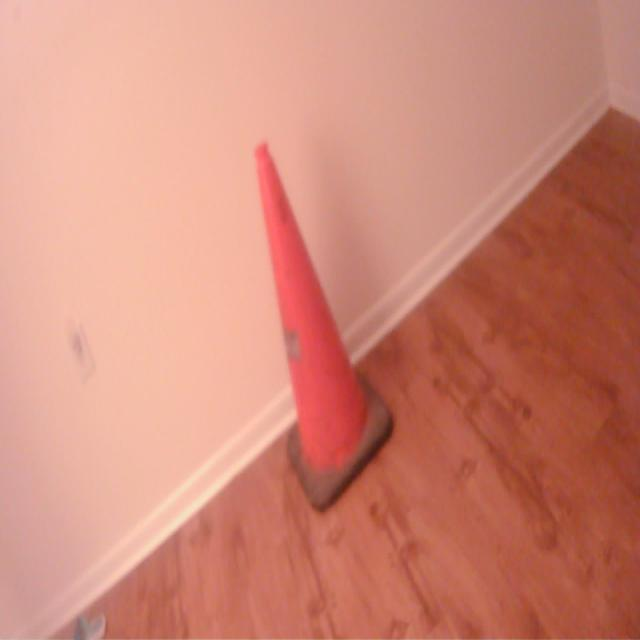traffic cone: (251, 135, 398, 517)
